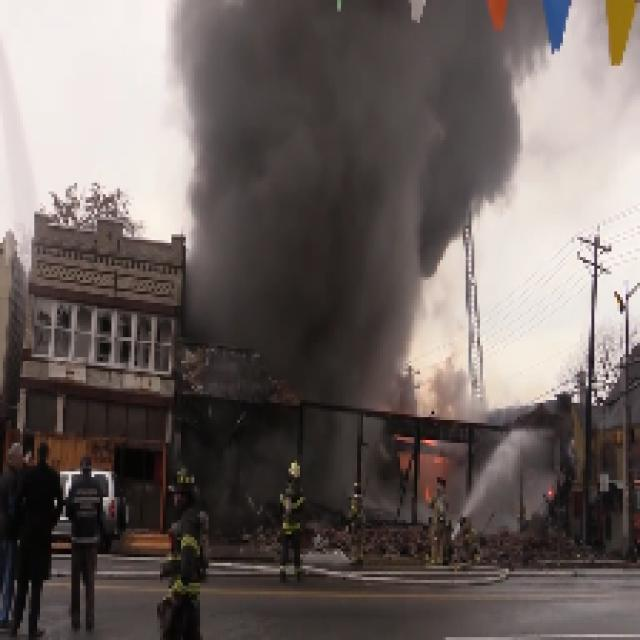Smoke: (180, 17, 463, 334), (474, 38, 546, 212), (292, 343, 412, 400)
